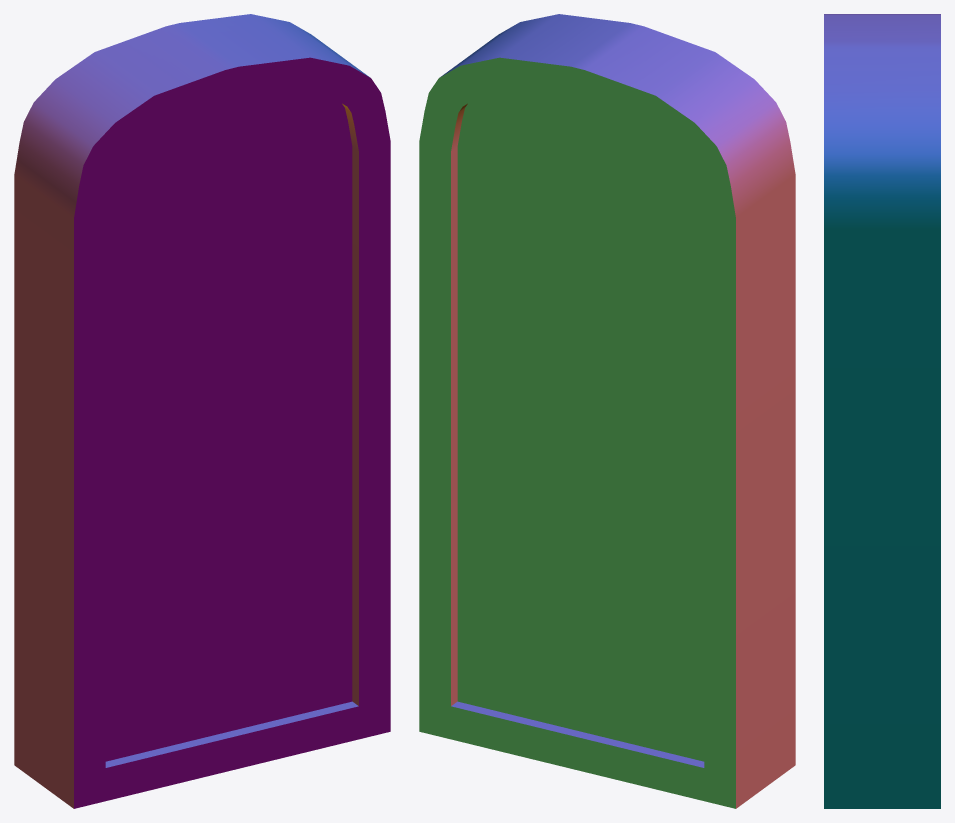
Rendered from grave4 (1).fbx.
3 views of the same model, side by side, from view 1: azimuth 30°, elevation 25°; view 2: azimuth 150°, elevation 25°; view 3: azimuth 270°, elevation 25° (orthographic).
Visible parts, largest first — view 1: pCube8; view 2: pCube8; view 3: pCube8.
Boxes of the visible parts, x1,y1,x2,y2 form: pCube8: [14, 14, 390, 808]; pCube8: [419, 14, 795, 808]; pCube8: [824, 14, 940, 808].
Size of the model in its own units: 1 by 2.12 by 0.3261.
